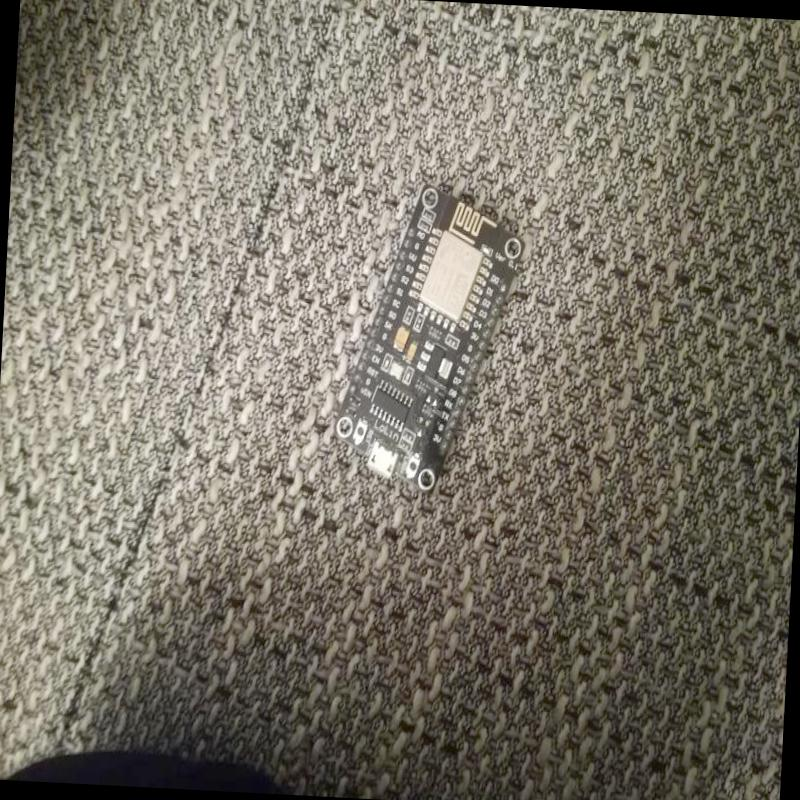ESP8266: (323, 176, 535, 514)
